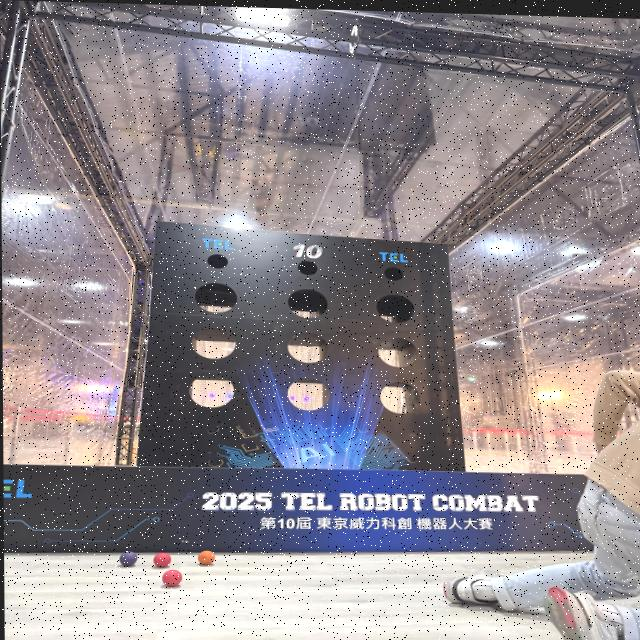hole: (189, 374, 234, 409), (287, 378, 330, 411), (192, 327, 236, 359), (380, 381, 421, 414), (195, 282, 237, 313), (288, 332, 329, 363), (288, 288, 328, 319), (378, 337, 417, 368), (376, 293, 415, 323), (207, 254, 228, 269), (298, 261, 318, 275), (384, 267, 403, 281)
